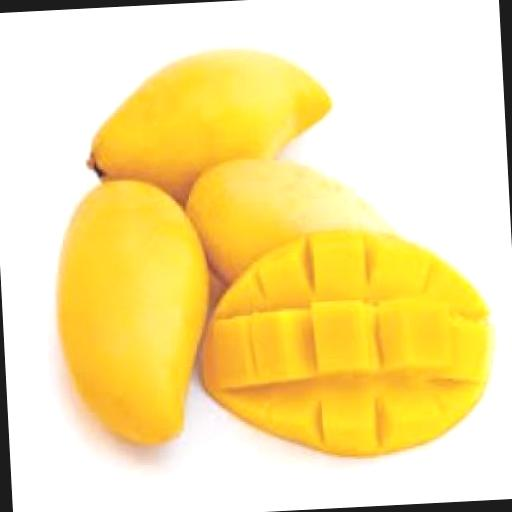biodegradable: (189, 217, 496, 462), (49, 169, 218, 452), (75, 38, 337, 188), (183, 151, 398, 289)
